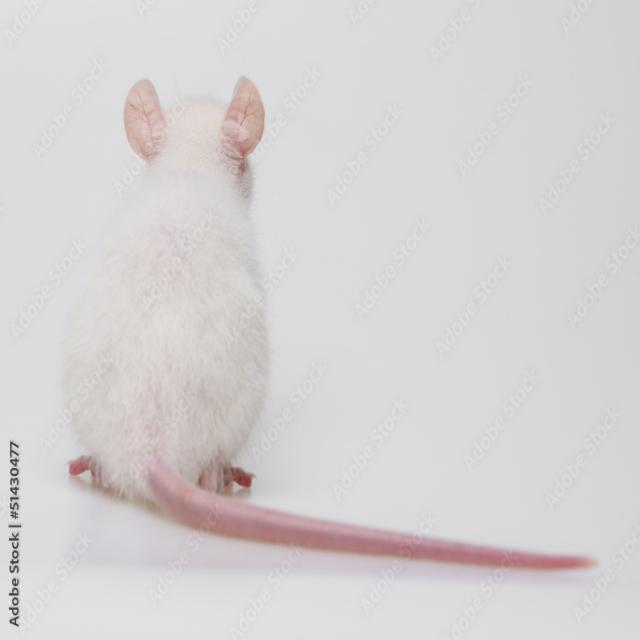rodents: (66, 68, 274, 531)
